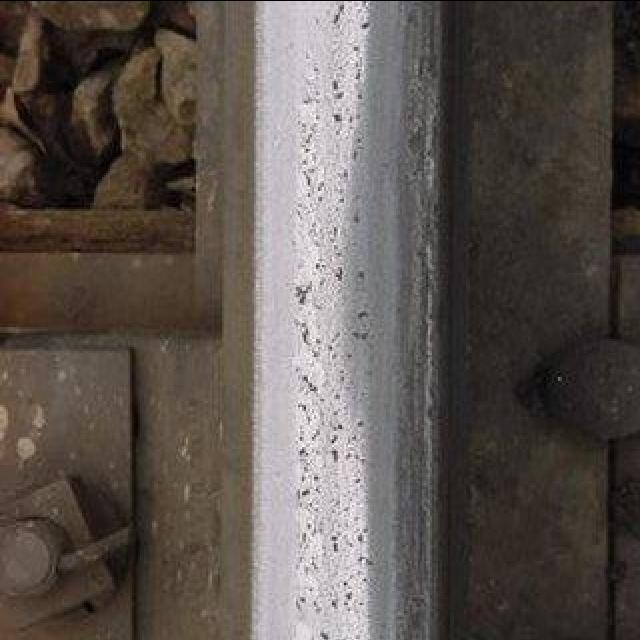squats_high: (290, 0, 379, 639)
